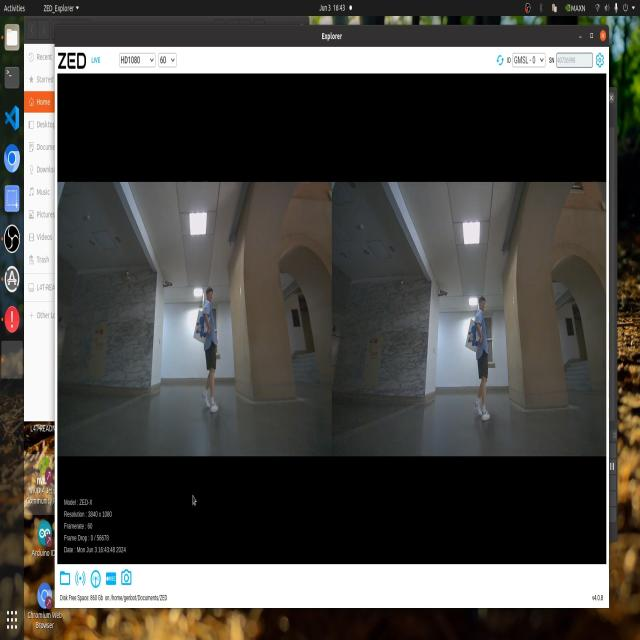blue: (463, 319, 477, 348), (196, 312, 210, 335)
